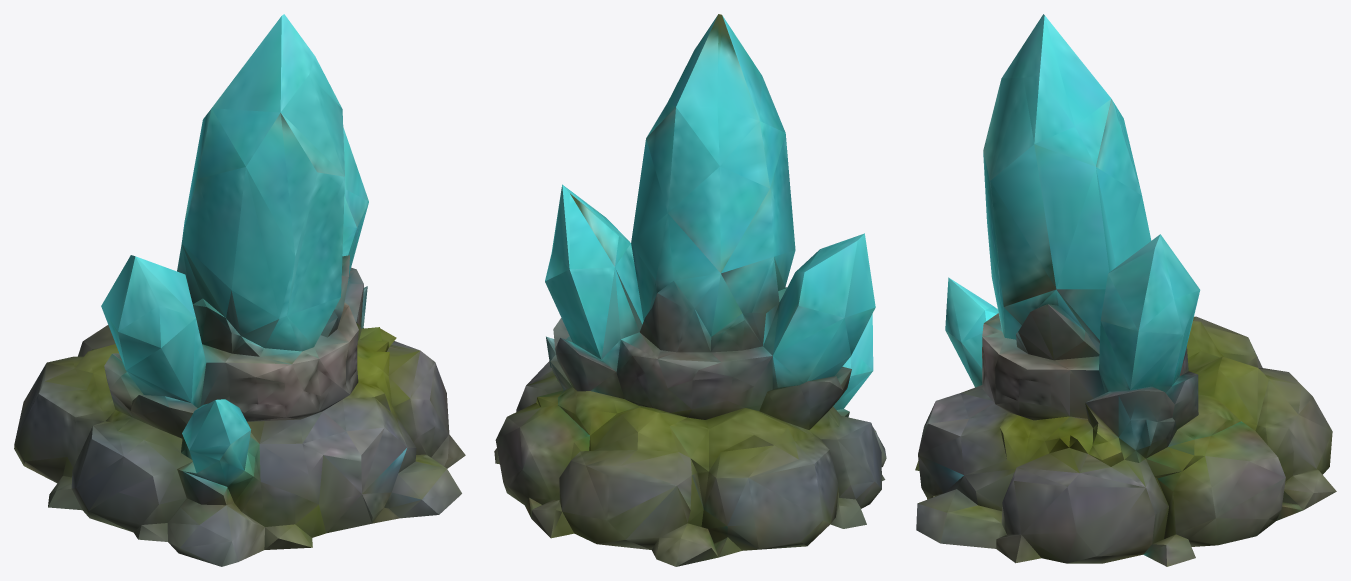
Rendered from cristal_resonante_1000.glb.
The picture shows the model from 3 angles, left to right: view 1: azimuth 30°, elevation 25°; view 2: azimuth 150°, elevation 25°; view 3: azimuth 270°, elevation 25°; orthographic projection. The views are drawn at different scales.
Visible parts, largest first — view 1: cristal_resonante_malla; view 2: cristal_resonante_malla; view 3: cristal_resonante_malla.
Part boxes in pixels (left/top/right/bottom): cristal_resonante_malla: left=14, top=14, right=465, bottom=566; cristal_resonante_malla: left=494, top=14, right=886, bottom=566; cristal_resonante_malla: left=915, top=14, right=1336, bottom=566.
Bounding box in the file's own units: 0.2905 × 0.3491 × 0.28.
Materials: 1 (1 with a texture image).
